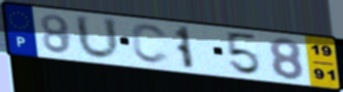1: (172, 24, 197, 72)
5: (223, 31, 264, 77)
8: (268, 36, 306, 81), (38, 13, 72, 55)
C: (129, 23, 172, 67)
U: (73, 13, 123, 63)
